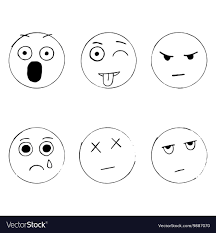feliz: (5, 25, 67, 92), (76, 27, 137, 93)
triste: (150, 29, 208, 101), (8, 119, 66, 191), (77, 121, 135, 192), (148, 120, 206, 191), (14, 134, 57, 171), (158, 48, 201, 81), (159, 140, 201, 173)
